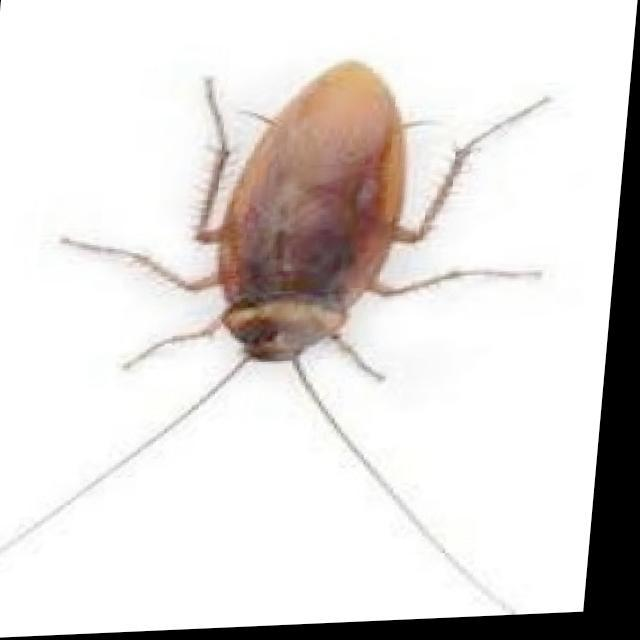cockroach: (83, 11, 546, 566)
